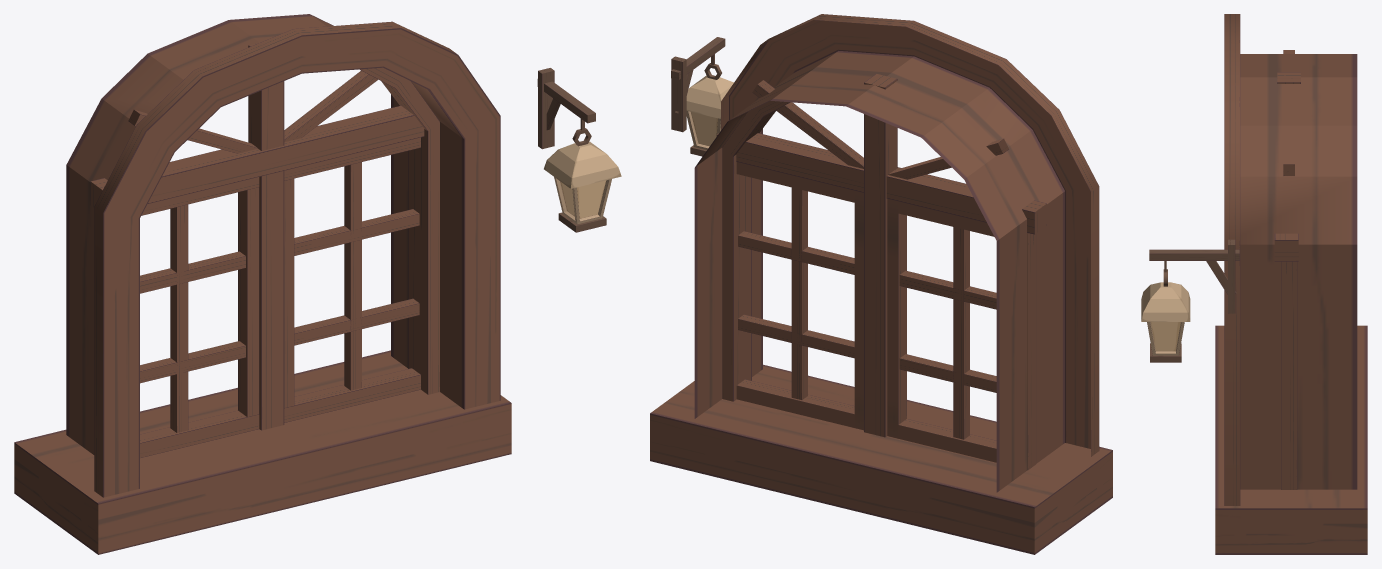
The model's file is Mesh_Room_Window.fbx.
3 renders of one model, left to right at view 1: azimuth 30°, elevation 25°; view 2: azimuth 150°, elevation 25°; view 3: azimuth 270°, elevation 25°, orthographic. The views are drawn at different scales.
Parts seen in each view (by area): view 1: Mesh_Room_Window; view 2: Mesh_Room_Window; view 3: Mesh_Room_Window.
Boxes of the visible parts, x1,y1,x2,y2 form: Mesh_Room_Window: [14, 14, 621, 554]; Mesh_Room_Window: [650, 14, 1112, 554]; Mesh_Room_Window: [1141, 14, 1367, 554].
Bounding box in the file's own units: 233 × 214 × 104.
